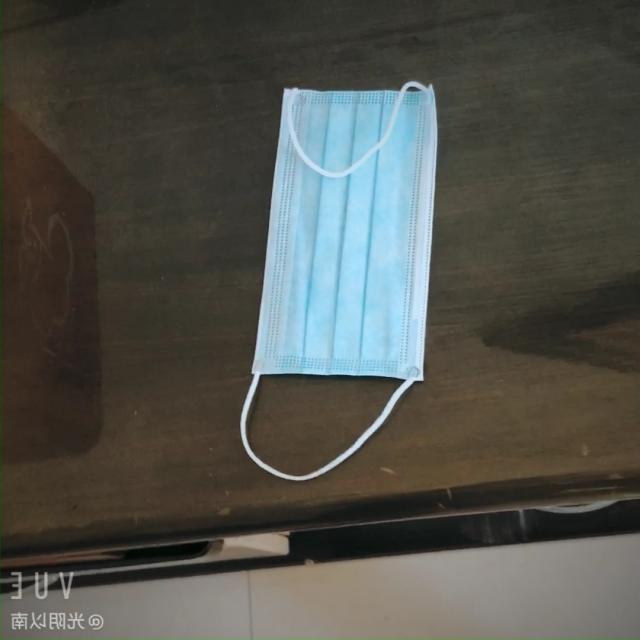face mask: (252, 71, 454, 386)
